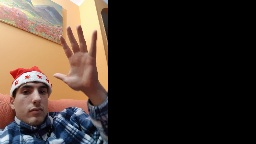Mano_aperta: (50, 23, 99, 92)
